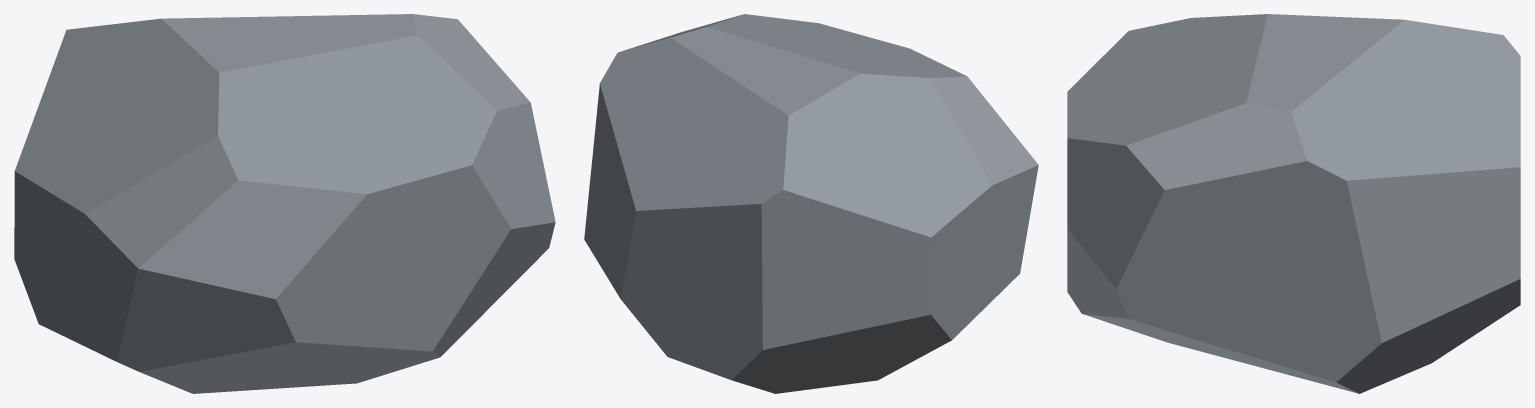
The model's file is Rock_Round_m_10.fbx.
The picture shows the model from 3 angles, left to right: view 1: azimuth 30°, elevation 25°; view 2: azimuth 150°, elevation 25°; view 3: azimuth 270°, elevation 25°; orthographic projection. The views are drawn at different scales.
Parts seen in each view (by area): view 1: Rock_Round_m_10; view 2: Rock_Round_m_10; view 3: Rock_Round_m_10.
Part boxes in pixels (bbox=[...]): Rock_Round_m_10: bbox=[14, 14, 555, 393]; Rock_Round_m_10: bbox=[584, 14, 1038, 393]; Rock_Round_m_10: bbox=[1067, 14, 1520, 393].
Size of the model in its own units: 91.8 by 64.26 by 91.8.
